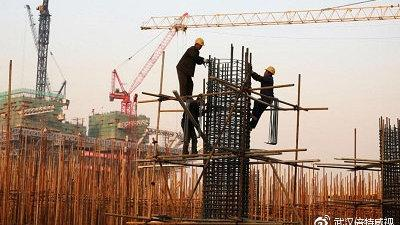helmet: (195, 37, 205, 47), (268, 67, 276, 74)
